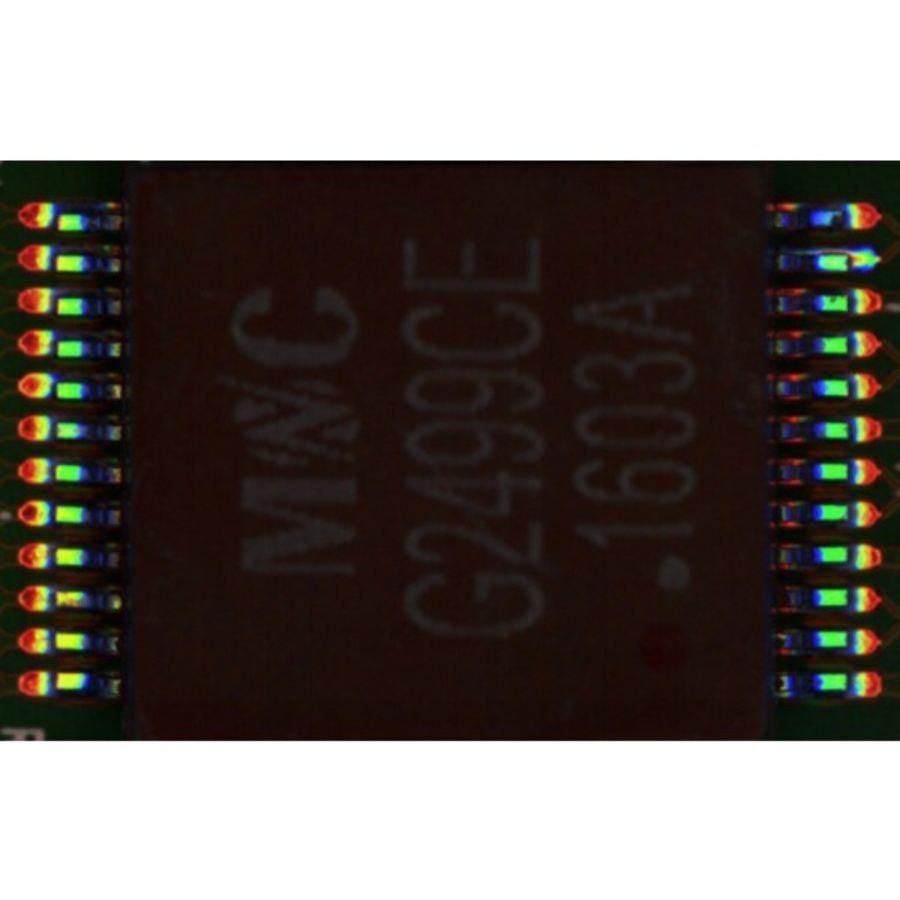Bad_podu: (839, 254, 861, 266)
Bad_qiaojiao: (791, 248, 847, 256)
